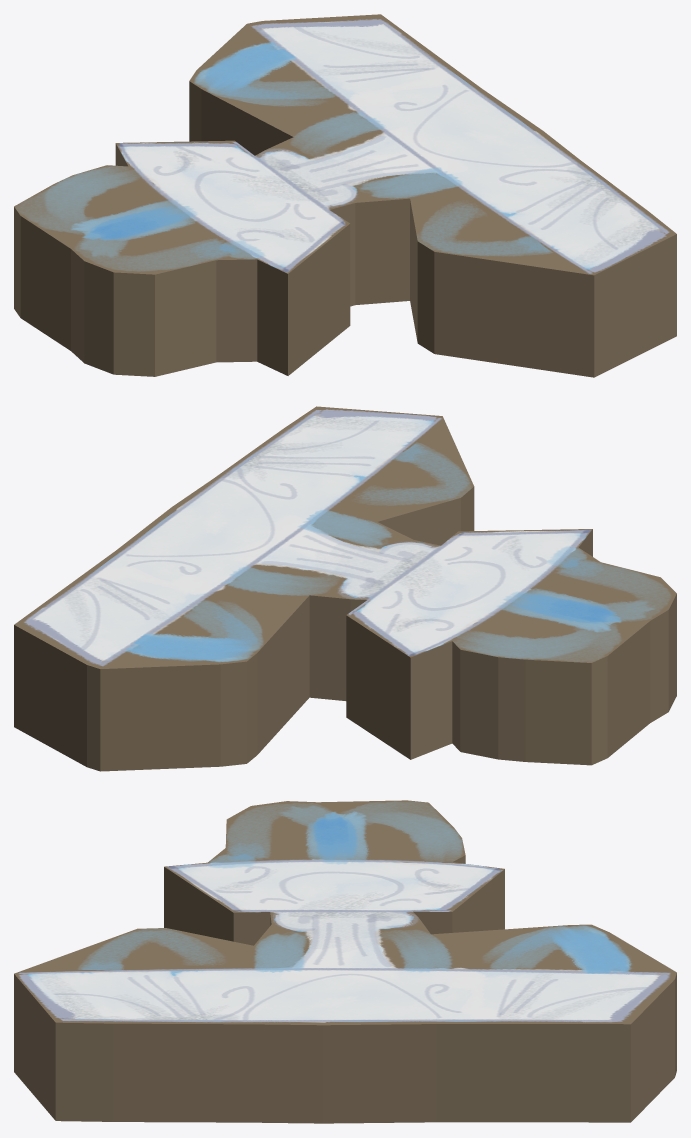
The model's file is Fuente.fbx.
The picture shows the model from 3 angles, top to bottom: view 1: azimuth 30°, elevation 25°; view 2: azimuth 150°, elevation 25°; view 3: azimuth 270°, elevation 25°; orthographic projection. The views are drawn at different scales.
Visible parts, largest first — view 1: Cube.005; view 2: Cube.005; view 3: Cube.005.
Boxes of the visible parts, x1,y1,x2,y2 form: Cube.005: [14, 14, 676, 377]; Cube.005: [14, 406, 676, 771]; Cube.005: [14, 800, 676, 1123].
Bounding box in the file's own units: 338 × 68.85 × 421.
